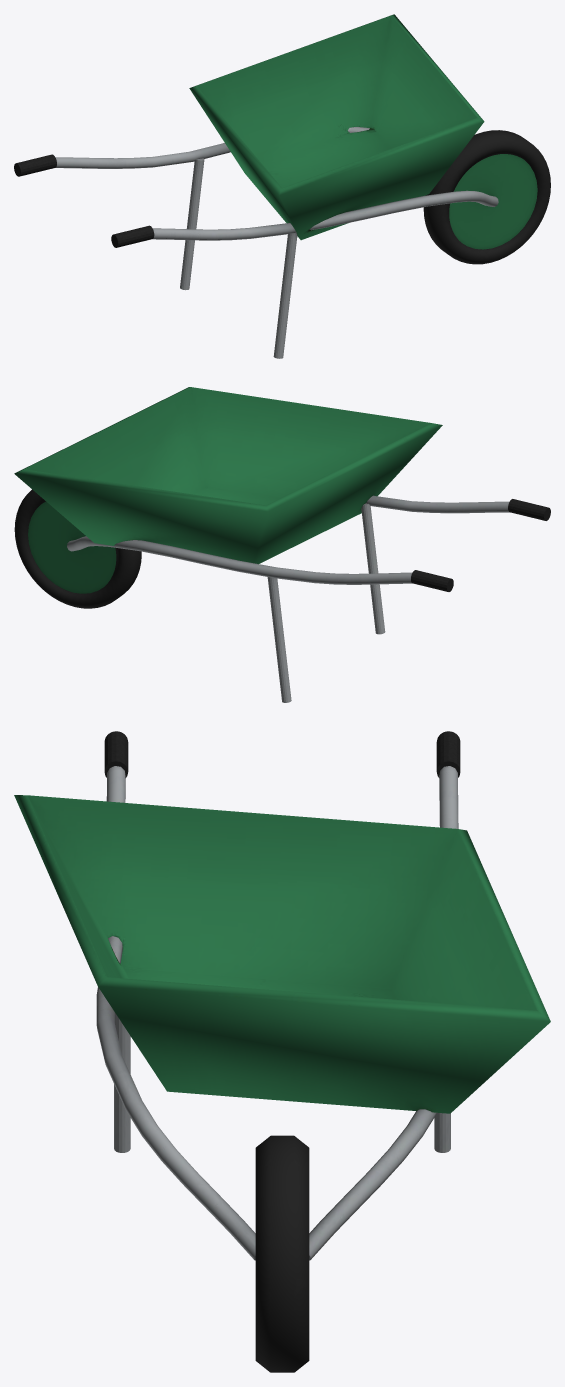
Rendered from green.glb.
The picture shows the model from 3 angles, top to bottom: view 1: azimuth 30°, elevation 25°; view 2: azimuth 150°, elevation 25°; view 3: azimuth 270°, elevation 25°; orthographic projection. The views are drawn at different scales.
Visible parts, largest first — view 1: paint_primary, steel, tyre, grip_rubber; view 2: paint_primary, steel, tyre, grip_rubber; view 3: paint_primary, steel, tyre, grip_rubber.
Boxes of the visible parts, box(x1,y1,x2,y2) form: paint_primary: box(189, 14, 537, 249); steel: box(55, 127, 498, 358); tyre: box(423, 130, 550, 264); grip_rubber: box(14, 154, 154, 247); paint_primary: box(14, 387, 442, 593); steel: box(67, 495, 510, 702); tyre: box(14, 489, 141, 608); grip_rubber: box(411, 499, 550, 591); paint_primary: box(14, 795, 550, 1113); steel: box(96, 766, 458, 1260); tyre: box(255, 1135, 309, 1372); grip_rubber: box(104, 731, 460, 777).
Size of the model in its own units: 1.6 by 0.6218 by 0.9051.
Materials: 4 (4 with a texture image).
